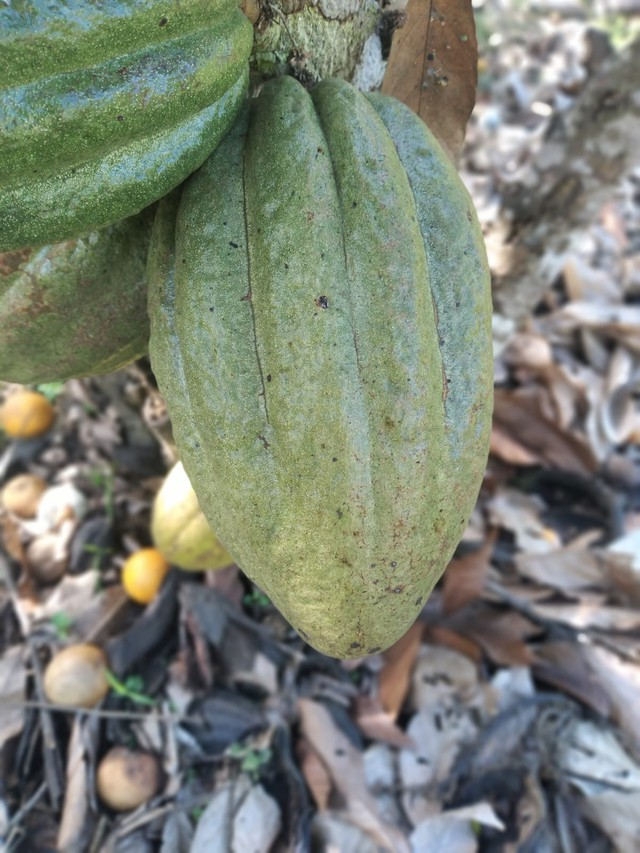Health: (115, 53, 510, 673)
